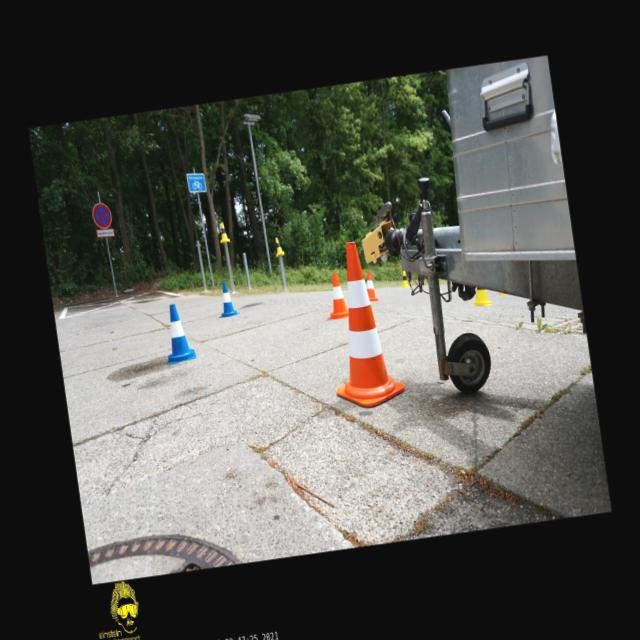blue_cone: (160, 302, 197, 366), (215, 280, 240, 318)
large_orange_cone: (316, 238, 407, 412)
orange_cone: (322, 272, 351, 321), (364, 270, 379, 302)
yellow_cone: (470, 286, 492, 307), (218, 221, 230, 243), (398, 270, 411, 288), (274, 237, 284, 257)
